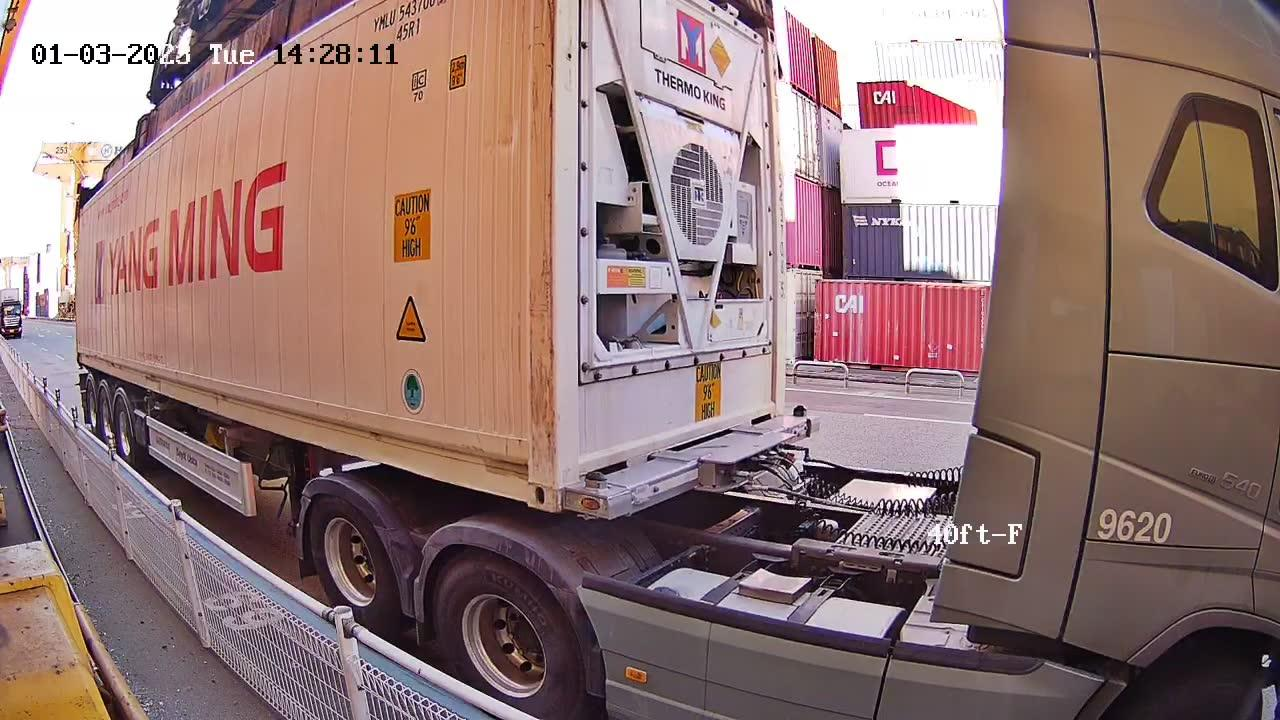Chassis: (558, 414, 817, 517)
Hole_R: (501, 445, 554, 513)
Tire: (433, 560, 571, 719), (311, 501, 396, 626)
